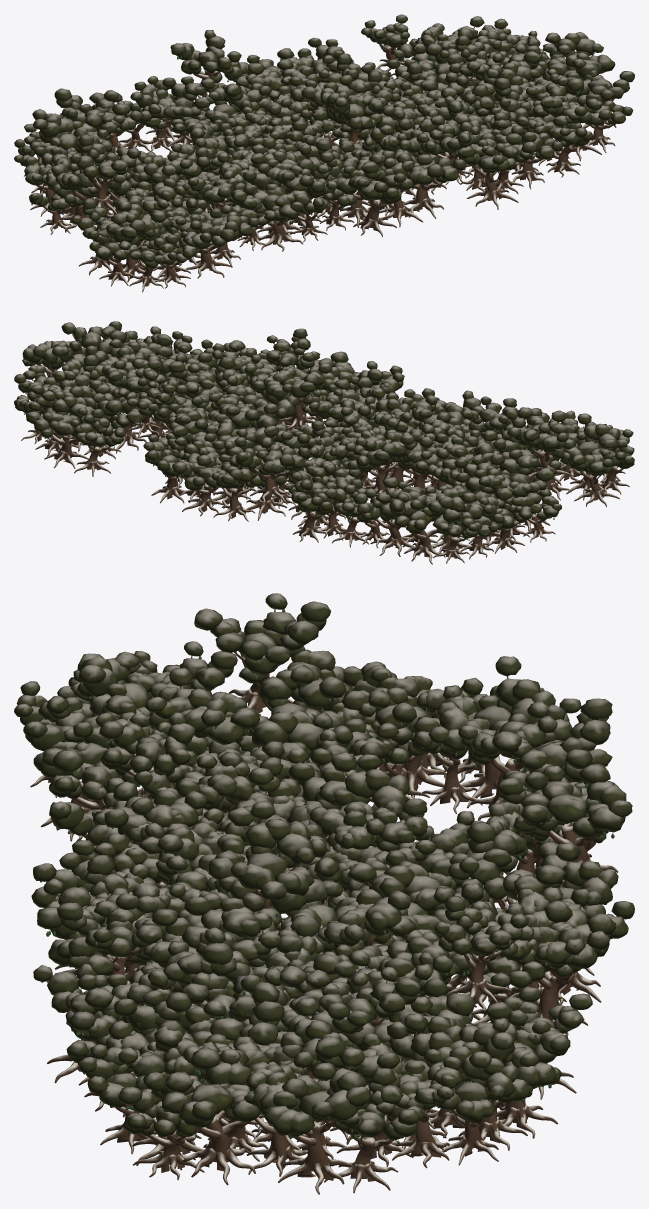
The model's file is BosqueArboles.glb.
3 views of the same model, one above another, from view 1: azimuth 30°, elevation 25°; view 2: azimuth 150°, elevation 25°; view 3: azimuth 270°, elevation 25° (orthographic). The views are drawn at different scales.
Parts seen in each view (by area): view 1: ArbolRetorcido063, ArbolRetorcido162, ArbolRetorcido004, ArbolRetorcido009, ArbolRetorcido148, ArbolRetorcido066, ArbolRetorcido012, ArbolRetorcido008, ArbolRetorcido052, ArbolRetorcido018, ArbolRetorcido013, ArbolRetorcido005 (+89 smaller); view 2: ArbolRetorcido162, ArbolRetorcido155, ArbolRetorcido147, ArbolRetorcido090, ArbolRetorcido063, ArbolRetorcido066, ArbolRetorcido152, ArbolRetorcido157, ArbolRetorcido154, ArbolRetorcido018, ArbolRetorcido160, ArbolRetorcido030 (+85 smaller); view 3: ArbolRetorcido052, ArbolRetorcido089, ArbolRetorcido162, ArbolRetorcido063, ArbolRetorcido066, ArbolRetorcido155, ArbolRetorcido013, ArbolRetorcido143, ArbolRetorcido107, ArbolRetorcido147, ArbolRetorcido137, ArbolRetorcido105 (+89 smaller).
Boxes of the visible parts, x1,y1,x2,y2 form: ArbolRetorcido063: (70, 134, 141, 213); ArbolRetorcido162: (170, 30, 241, 97); ArbolRetorcido004: (458, 133, 522, 209); ArbolRetorcido009: (383, 149, 466, 218); ArbolRetorcido148: (156, 76, 220, 146); ArbolRetorcido066: (320, 92, 383, 145); ArbolRetorcido012: (242, 183, 310, 251); ArbolRetorcido008: (343, 166, 401, 236); ArbolRetorcido052: (565, 58, 634, 130); ArbolRetorcido018: (96, 209, 167, 281); ArbolRetorcido013: (416, 115, 480, 184); ArbolRetorcido005: (361, 150, 432, 227); ArbolRetorcido162: (235, 437, 310, 505); ArbolRetorcido155: (353, 477, 426, 556); ArbolRetorcido147: (34, 391, 94, 468); ArbolRetorcido090: (487, 449, 561, 533); ArbolRetorcido063: (507, 410, 572, 485); ArbolRetorcido066: (265, 363, 332, 429); ArbolRetorcido152: (393, 490, 461, 564); ArbolRetorcido157: (143, 433, 199, 503); ArbolRetorcido154: (70, 409, 125, 476); ArbolRetorcido018: (560, 413, 620, 500); ArbolRetorcido160: (172, 447, 239, 516); ArbolRetorcido030: (561, 438, 619, 507); ArbolRetorcido052: (143, 1047, 289, 1185); ArbolRetorcido089: (258, 1047, 371, 1194); ArbolRetorcido162: (520, 764, 632, 884); ArbolRetorcido063: (194, 593, 330, 712); ArbolRetorcido066: (208, 807, 314, 930); ArbolRetorcido155: (492, 698, 612, 782); ArbolRetorcido013: (57, 893, 177, 984); ArbolRetorcido143: (437, 656, 555, 808); ArbolRetorcido107: (324, 1068, 424, 1193); ArbolRetorcido147: (459, 1023, 570, 1138); ArbolRetorcido137: (434, 895, 529, 1002); ArbolRetorcido105: (305, 967, 420, 1035).
Bounding box in the file's own units: 169 × 28.82 × 91.02.
